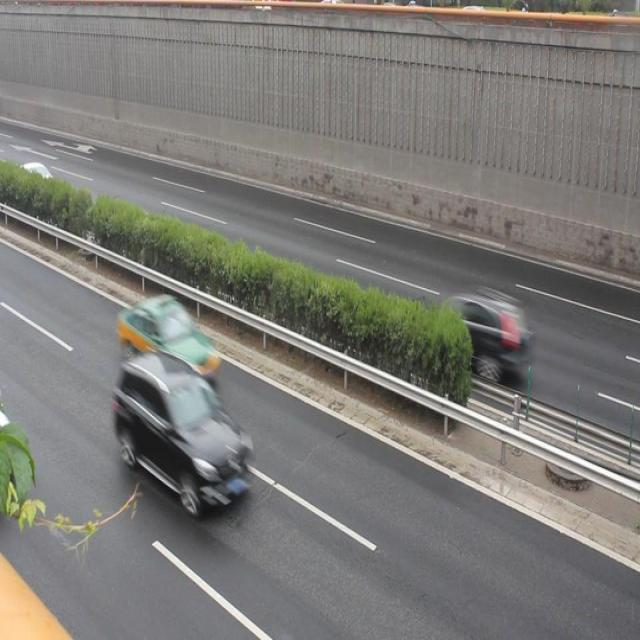car: (114, 351, 251, 511), (421, 287, 533, 378), (120, 295, 222, 382), (14, 162, 58, 204)
